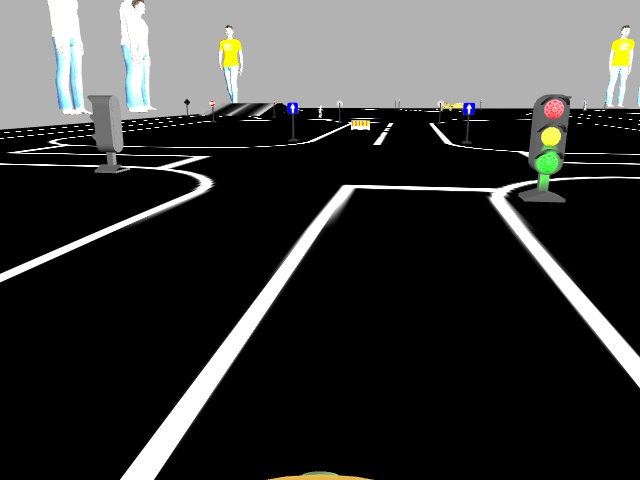ClosedRoadStand: (350, 120, 368, 130)
OneWay: (462, 101, 474, 114), (287, 102, 297, 112)
TrafficLight: (527, 94, 572, 175)
